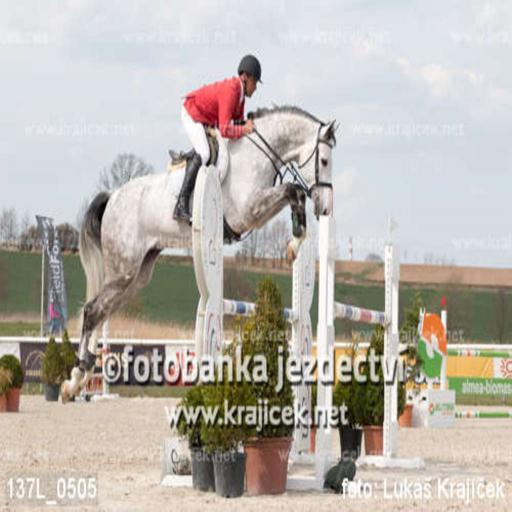Horse: (59, 97, 340, 406)
